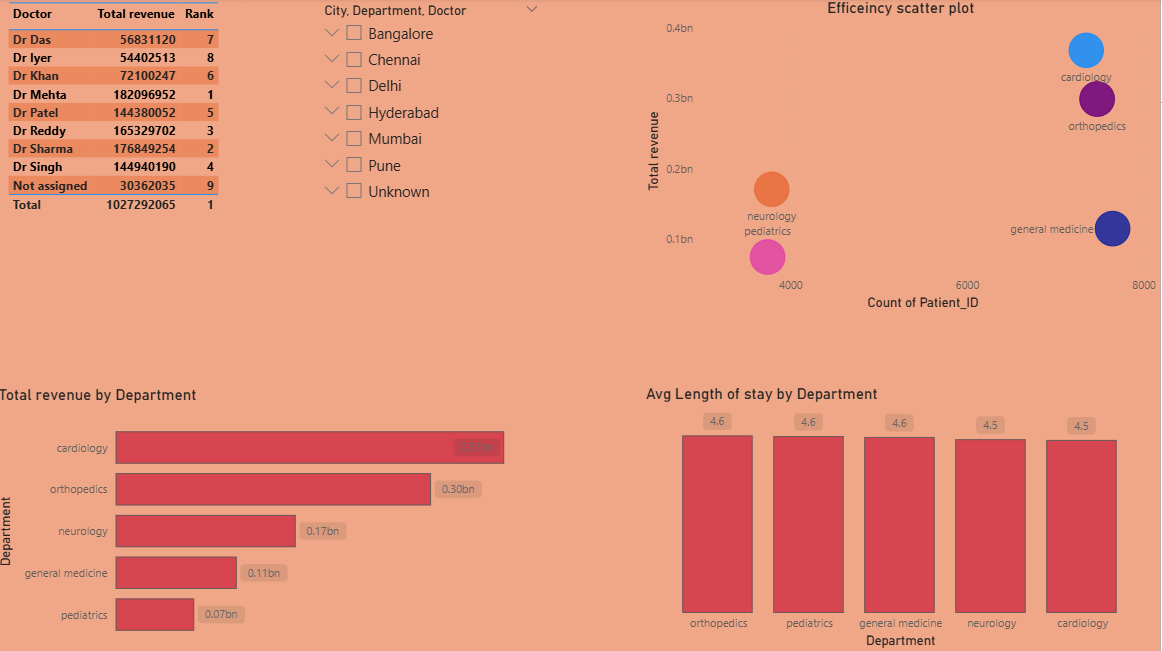

The page's visual inventory and layout, read from the dashboard file:
{"tool":"powerbi","page":{"name":"Doctors and department analysis","canvas":[1280,720],"ordinal":1},"visuals":[{"type":"tableEx","fields":{"Values":["Table1.Doctor","Measures (2).Total revenue","Measures (2).Rank"]},"box":[9.6,0,263.5,251.1],"z":0},{"type":"scatterChart","title":"Efficeincy scatter plot","fields":{"X":["CountNonNull(Table1.Patient_ID)"],"Y":["Measures (2).Total revenue"],"Size":["Measures (2).Avg Length of stay"],"Series":["Table1.Department"]},"box":[710.8,0,569.5,347.2],"z":1000},{"type":"clusteredBarChart","fields":{"Y":["Measures (2).Total revenue"],"Category":["Table1.Department"]},"box":[0,426,594,294],"z":2000},{"type":"columnChart","fields":{"Y":["Measures (2).Avg Length of stay"],"Category":["Table1.Department"]},"box":[710.8,424,569.5,295],"z":3000},{"type":"slicer","fields":{"Values":["Table1.City","Table1.Department","Table1.Doctor"]},"box":[349.9,0,259.3,237.4],"z":4000}]}

Visuals, with their boxes in screenshot pixels (x1, y1, x2, y2), scaled from the page's 1280x720 canvas onto the 1162x651 screenshot:
tableEx - Table1.Doctor x Measures (2).Total revenue: <box>9,0,248,227</box>
"Efficeincy scatter plot" scatterChart: <box>645,0,1161,314</box>
clusteredBarChart - Measures (2).Total revenue x Table1.Department: <box>0,385,539,650</box>
columnChart - Measures (2).Avg Length of stay x Table1.Department: <box>645,383,1161,650</box>
slicer - Table1.City x Table1.Department: <box>318,0,553,215</box>
